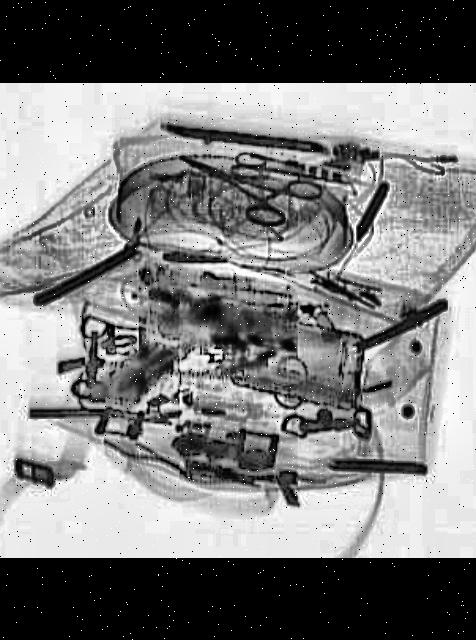Scissors: (162, 130, 321, 242), (224, 150, 360, 200)
